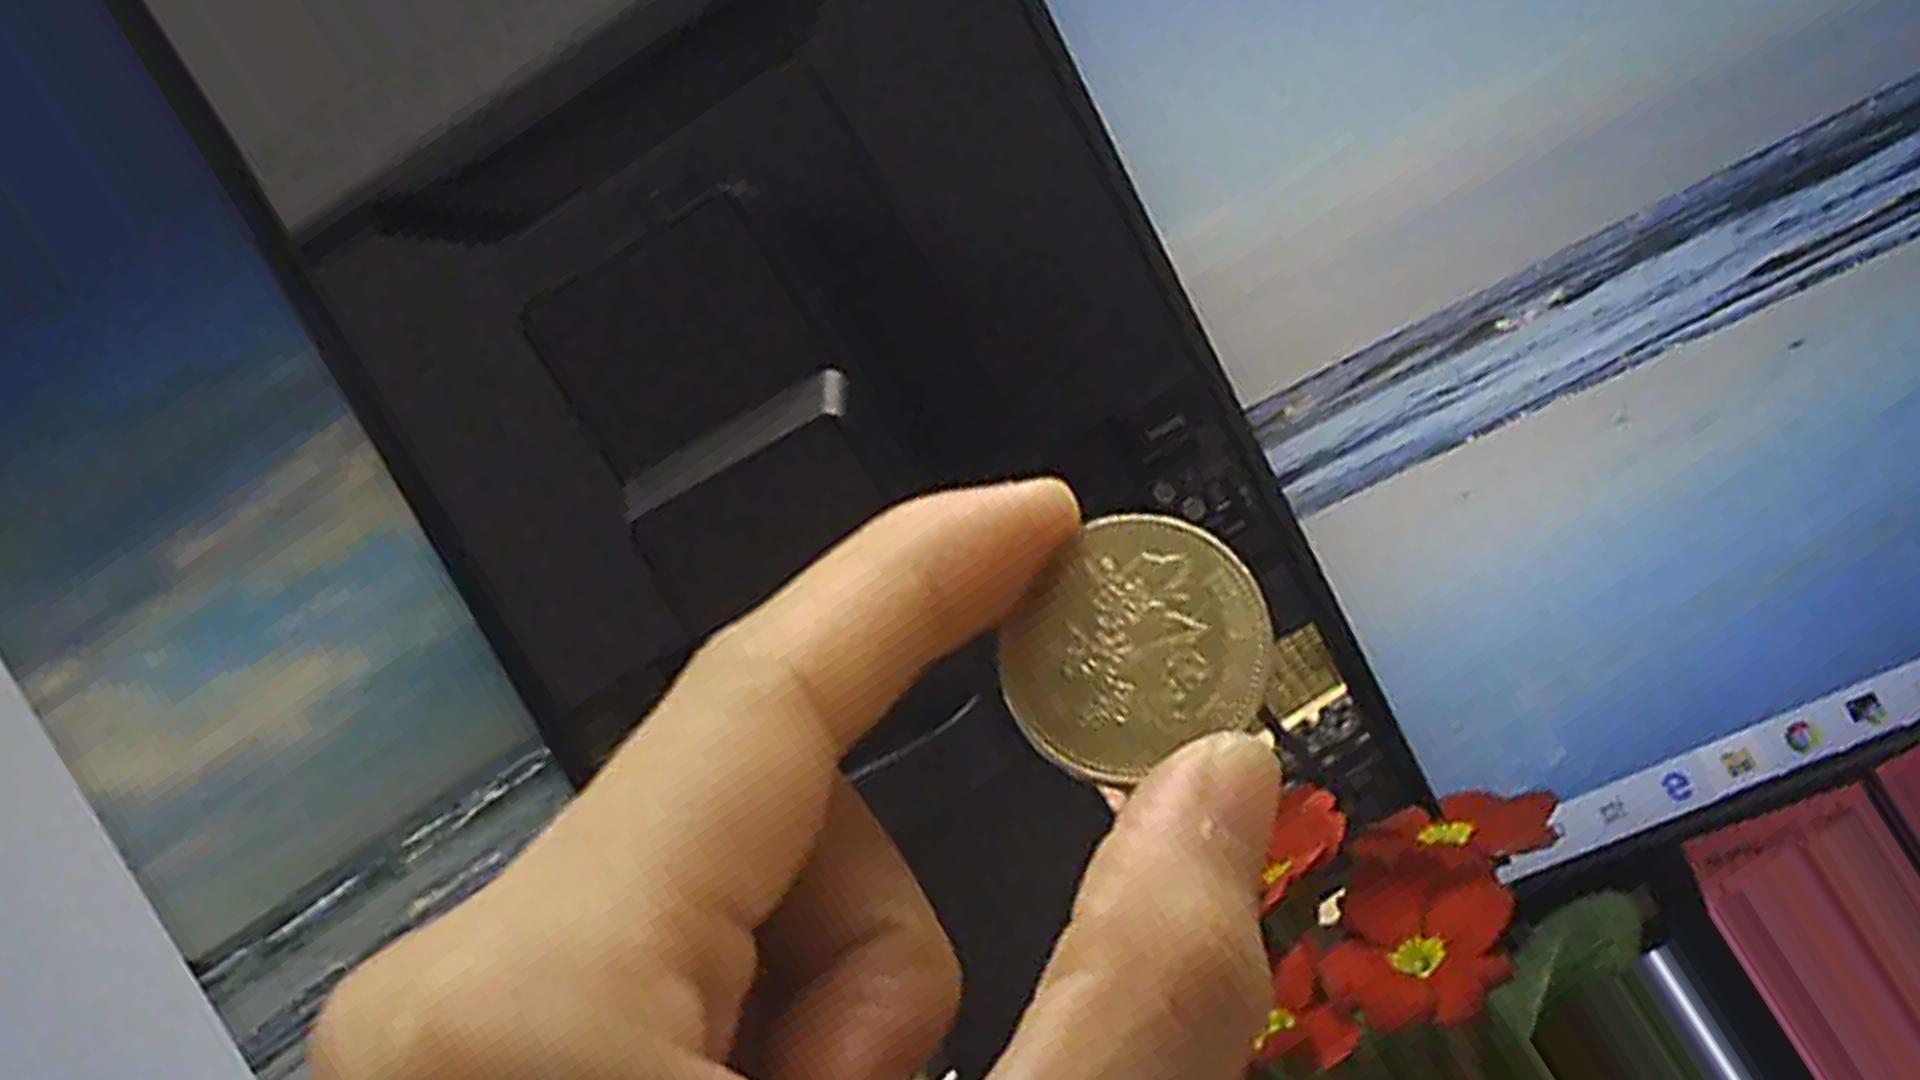500 Yen: (986, 502, 1283, 787)
